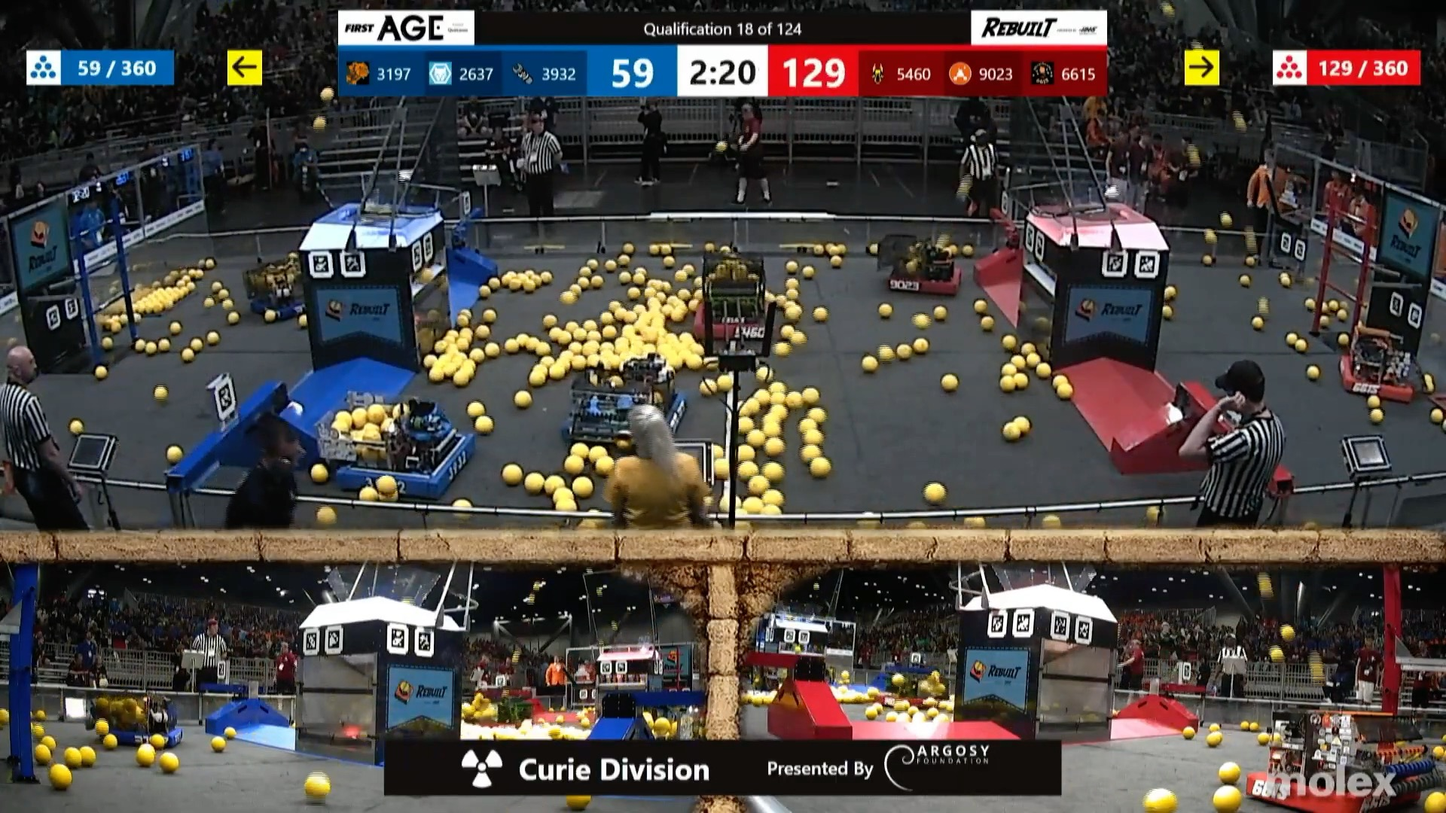bumpers: (554, 387, 694, 452), (341, 437, 483, 500), (1238, 771, 1446, 813), (1324, 348, 1426, 406), (688, 293, 779, 346), (878, 261, 973, 302), (98, 713, 194, 753), (243, 288, 333, 324)
